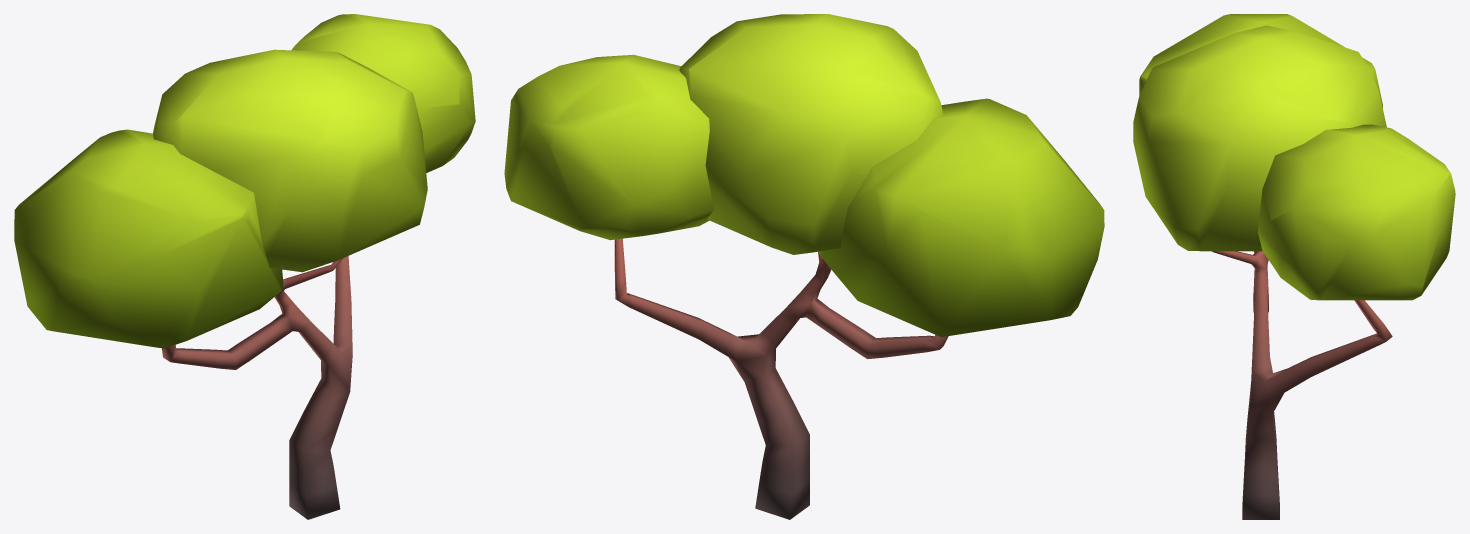
The picture shows the model from 3 angles, left to right: view 1: azimuth 30°, elevation 25°; view 2: azimuth 150°, elevation 25°; view 3: azimuth 270°, elevation 25°; orthographic projection. The views are drawn at different scales.
Parts seen in each view (by area): view 1: Vert.041; view 2: Vert.041; view 3: Vert.041.
Part boxes in pixels (<box>): Vert.041: <box>14,14,475,519</box>; Vert.041: <box>504,14,1104,519</box>; Vert.041: <box>1133,14,1455,519</box>.
Bounding box in the file's own units: 6.01 × 5.55 × 3.51.
Materials: 1 (1 with a texture image).
